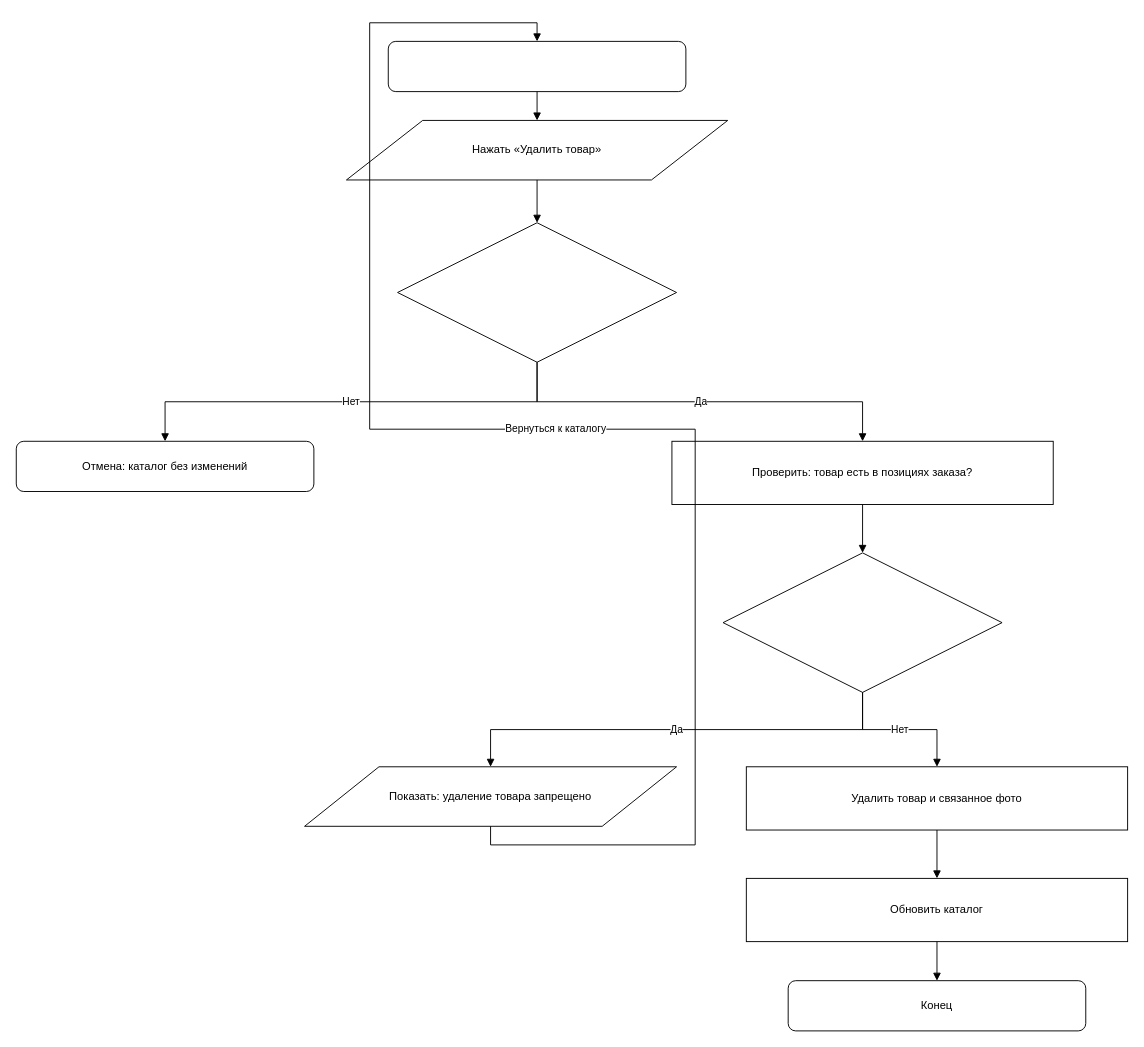
Some shapes in this 1144 by 1047 pixel diagram are drawn without their labels. Here are the shapes that lost their labels. From the top down, the centre of each, then its label:
pixel 536 66: Выбран товар
pixel 537 292: Удаление подтверждено?
pixel 862 622: Товар есть в заказе?
